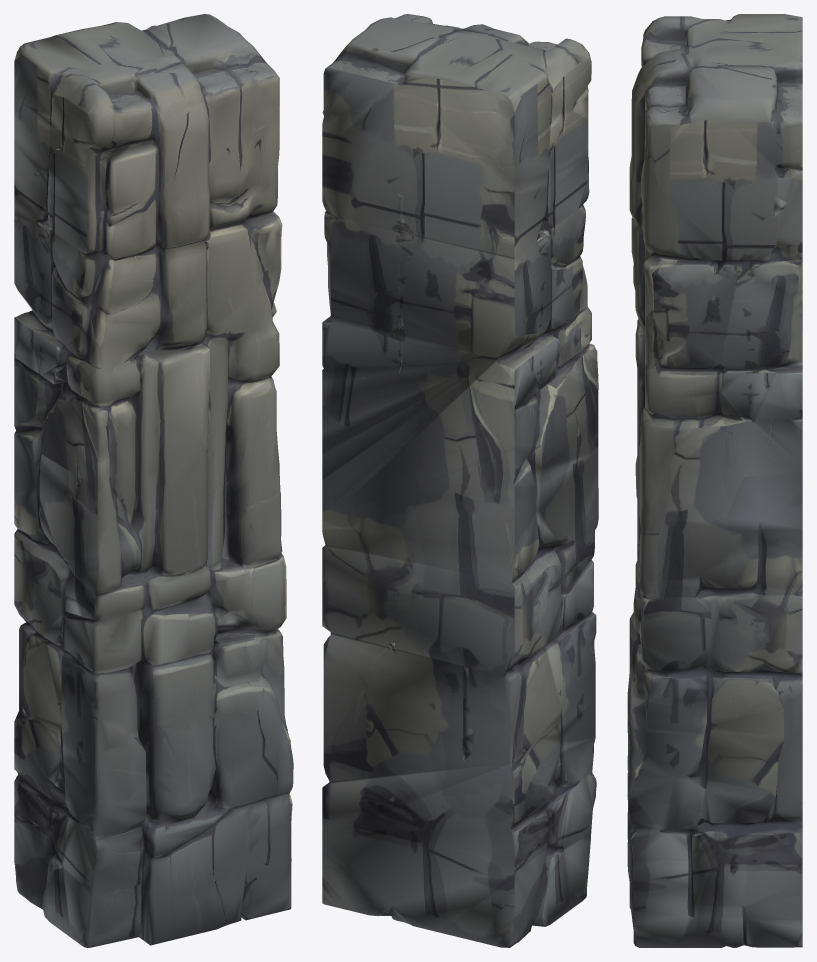
The model's file is cliff_tall.glb.
The picture shows the model from 3 angles, left to right: view 1: azimuth 30°, elevation 25°; view 2: azimuth 150°, elevation 25°; view 3: azimuth 270°, elevation 25°; orthographic projection.
Parts seen in each view (by area): view 1: CLIFF_TALL; view 2: CLIFF_TALL; view 3: CLIFF_TALL.
Boxes of the visible parts, x1,y1,x2,y2 form: CLIFF_TALL: [14, 14, 293, 947]; CLIFF_TALL: [322, 14, 598, 947]; CLIFF_TALL: [627, 14, 802, 947].
Bounding box in the file's own units: 1.08 × 4.6 × 0.8642.
1 material, 1 textured.
